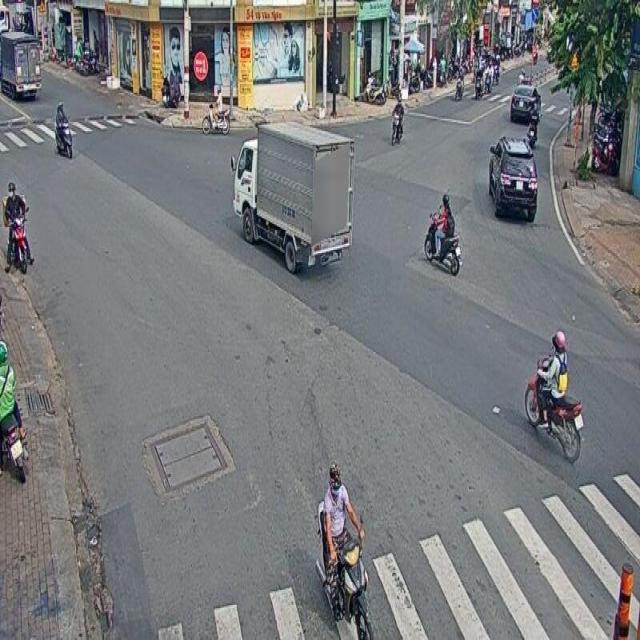car: (488, 136, 538, 222), (510, 84, 540, 120)
motorcycle: (316, 461, 373, 640), (524, 331, 582, 463), (423, 193, 462, 276), (3, 180, 33, 276), (390, 95, 405, 146)
truck: (232, 122, 354, 273)
